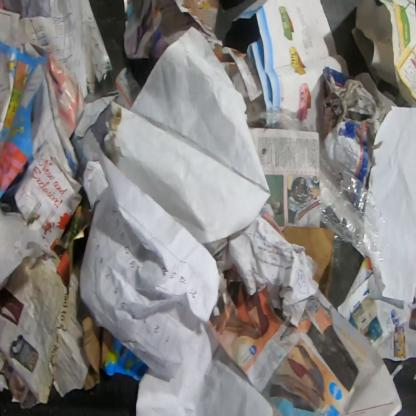cardboard: (48, 258, 95, 399), (81, 314, 150, 392), (281, 224, 336, 302)
soft_plastic: (314, 134, 392, 268), (0, 200, 60, 292), (246, 108, 311, 133)
